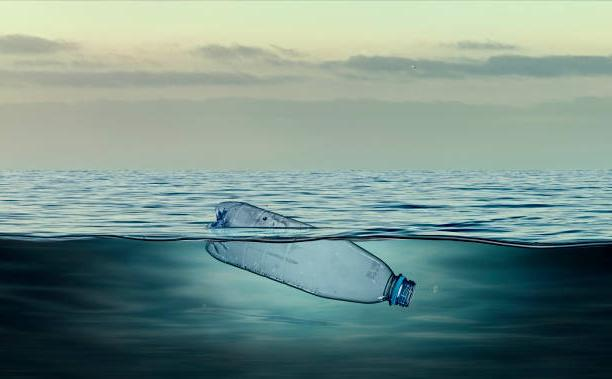Plastic: (204, 190, 412, 307)
